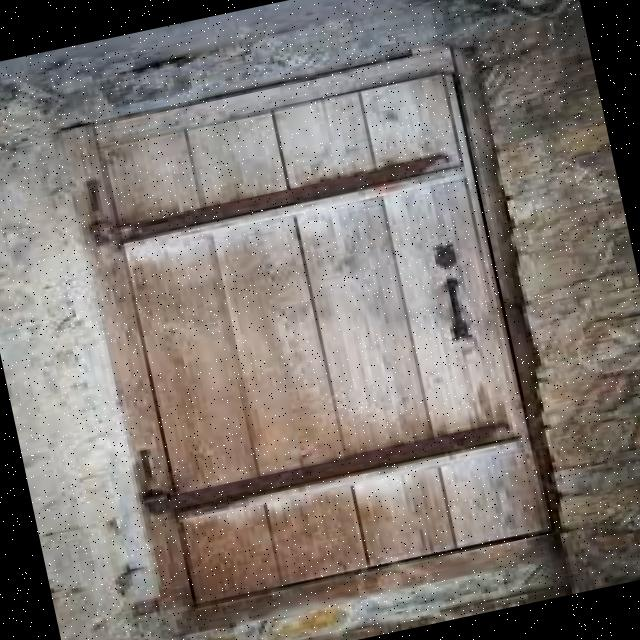Door: (75, 51, 562, 625)
